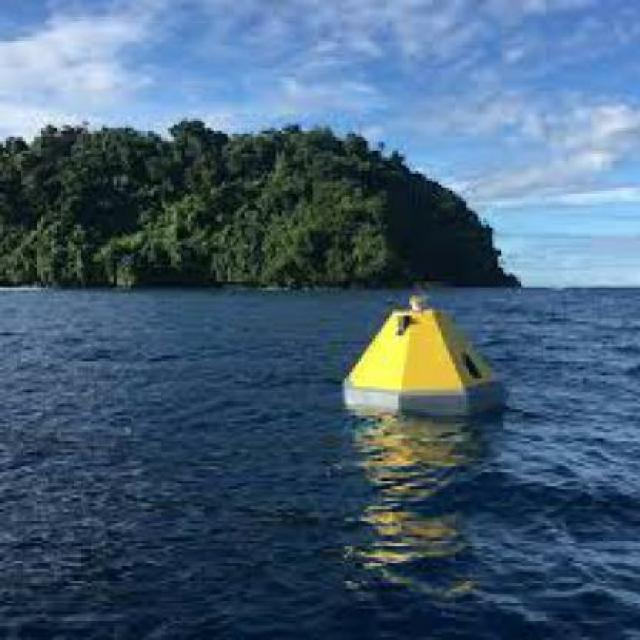buoy: (331, 283, 519, 430)
